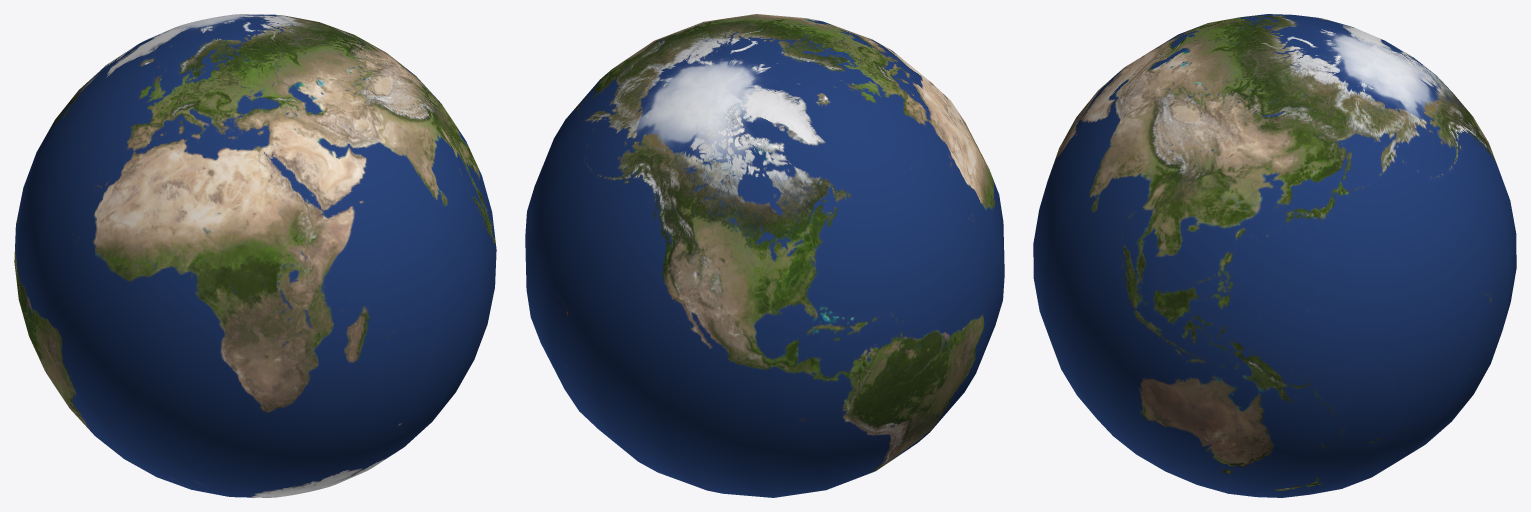
File: WorldGlobe.glb
3 renders of one model, left to right at view 1: azimuth 30°, elevation 25°; view 2: azimuth 150°, elevation 25°; view 3: azimuth 270°, elevation 25°, orthographic.
Parts seen in each view (by area): view 1: node_id3; view 2: node_id3; view 3: node_id3.
Boxes of the visible parts, x1,y1,x2,y2 form: node_id3: (14, 14, 496, 497); node_id3: (525, 14, 1004, 497); node_id3: (1033, 14, 1516, 497).
Size of the model in its own units: 0.512 by 0.5109 by 0.5106.
Materials: 1 (1 with a texture image).
